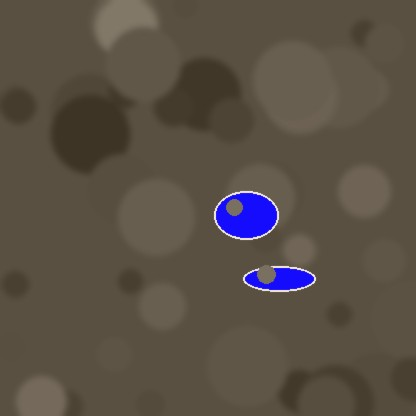gota: (214, 193, 278, 243), (243, 267, 315, 293)
